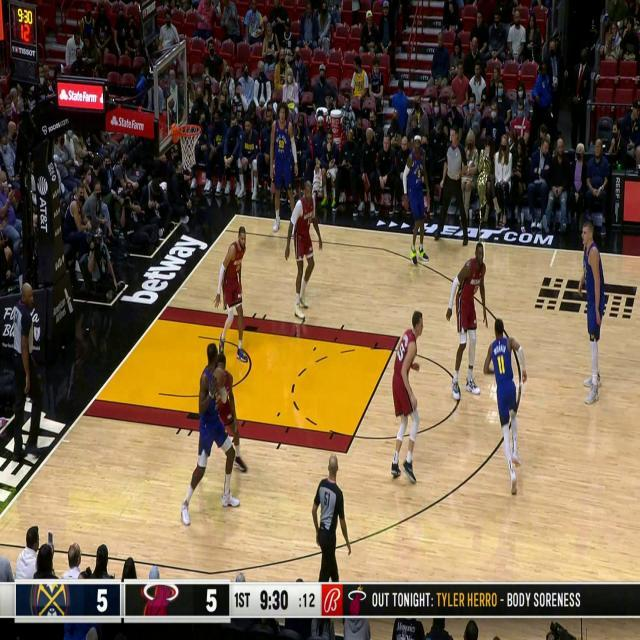rim: (212, 366, 226, 388)
